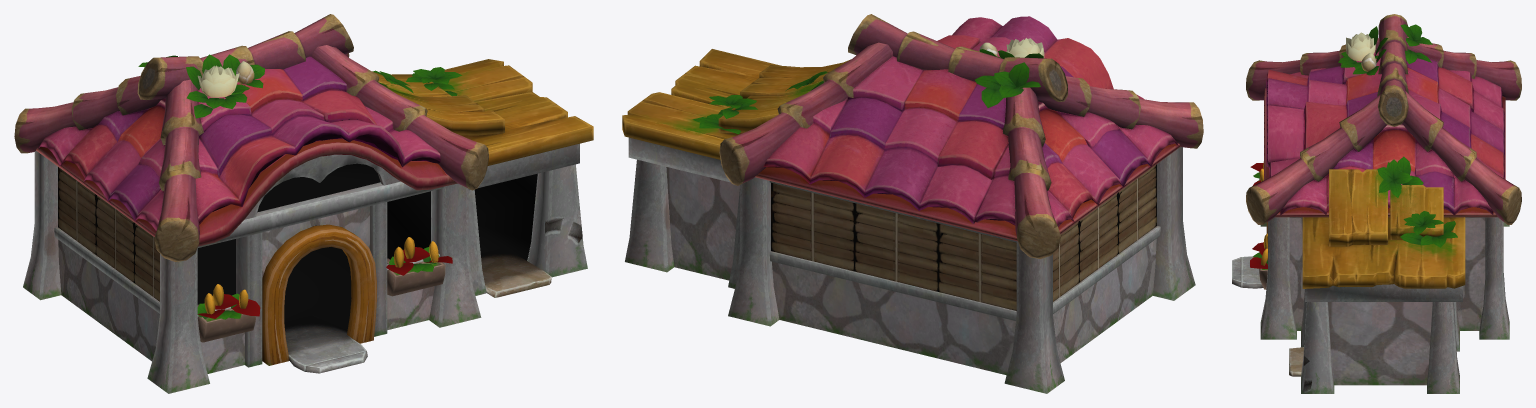
Rendered from Madam.obj.
3 views of the same model, side by side, from view 1: azimuth 30°, elevation 25°; view 2: azimuth 150°, elevation 25°; view 3: azimuth 270°, elevation 25° (orthographic). The views are drawn at different scales.
Visible parts, largest first — view 1: ie__MI_BdMadam_01, hana3__MI_BdMadam_02; view 2: ie__MI_BdMadam_01, hana3__MI_BdMadam_02; view 3: ie__MI_BdMadam_01, hana3__MI_BdMadam_02.
Boxes of the visible parts, x1,y1,x2,y2 form: ie__MI_BdMadam_01: (14,14,593,393); hana3__MI_BdMadam_02: (138,54,462,319); ie__MI_BdMadam_01: (622,14,1203,393); hana3__MI_BdMadam_02: (692,38,1044,134); ie__MI_BdMadam_01: (1232,14,1521,393); hana3__MI_BdMadam_02: (1250,24,1457,268).
Size of the model in its own units: 2.61 by 1.42 by 1.67.
